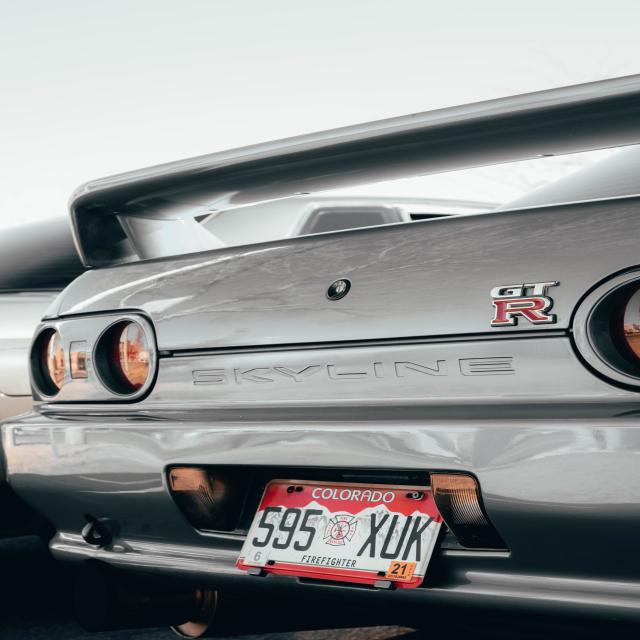Plat: (231, 473, 455, 591)
